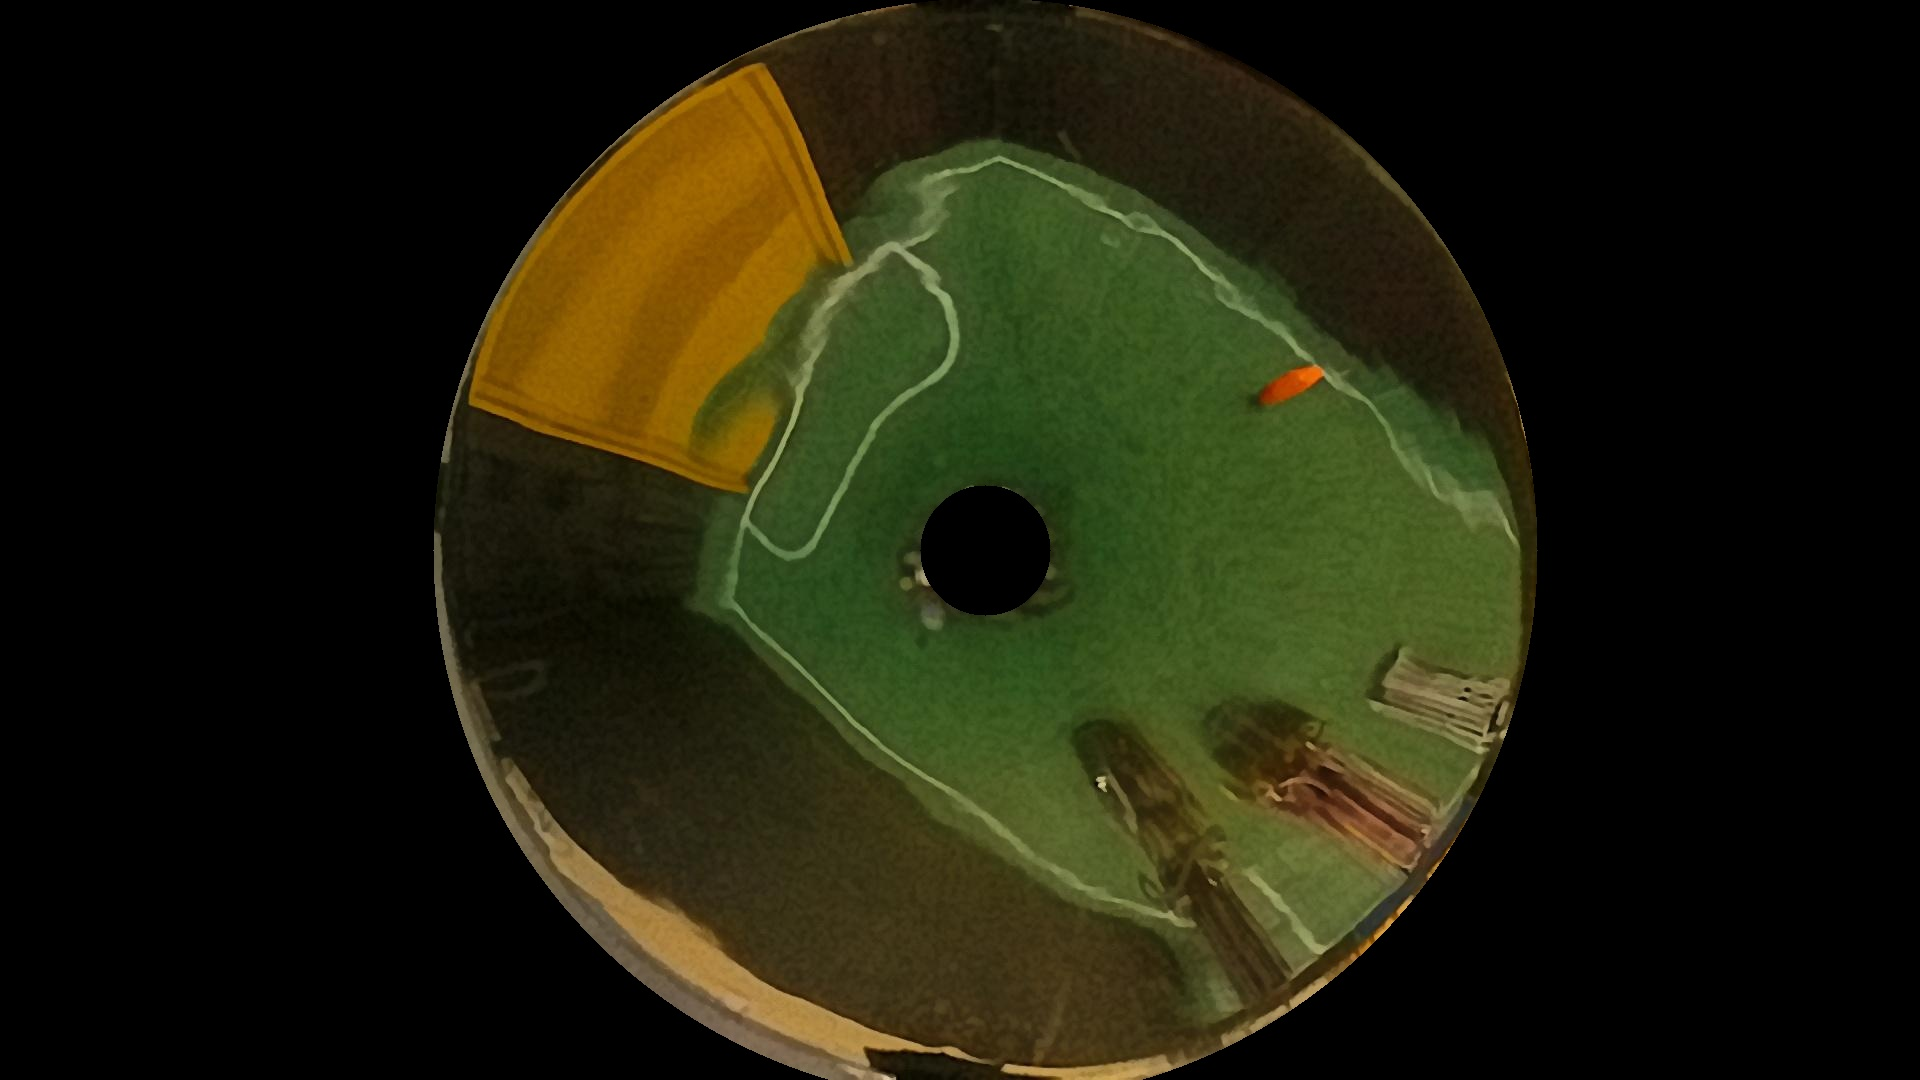ball: (1255, 363, 1335, 406)
blue-goal: (1356, 793, 1502, 952)
robots: (1044, 709, 1317, 1014), (1174, 678, 1444, 870), (1332, 634, 1530, 748)
yellow-goal: (407, 42, 876, 516)
